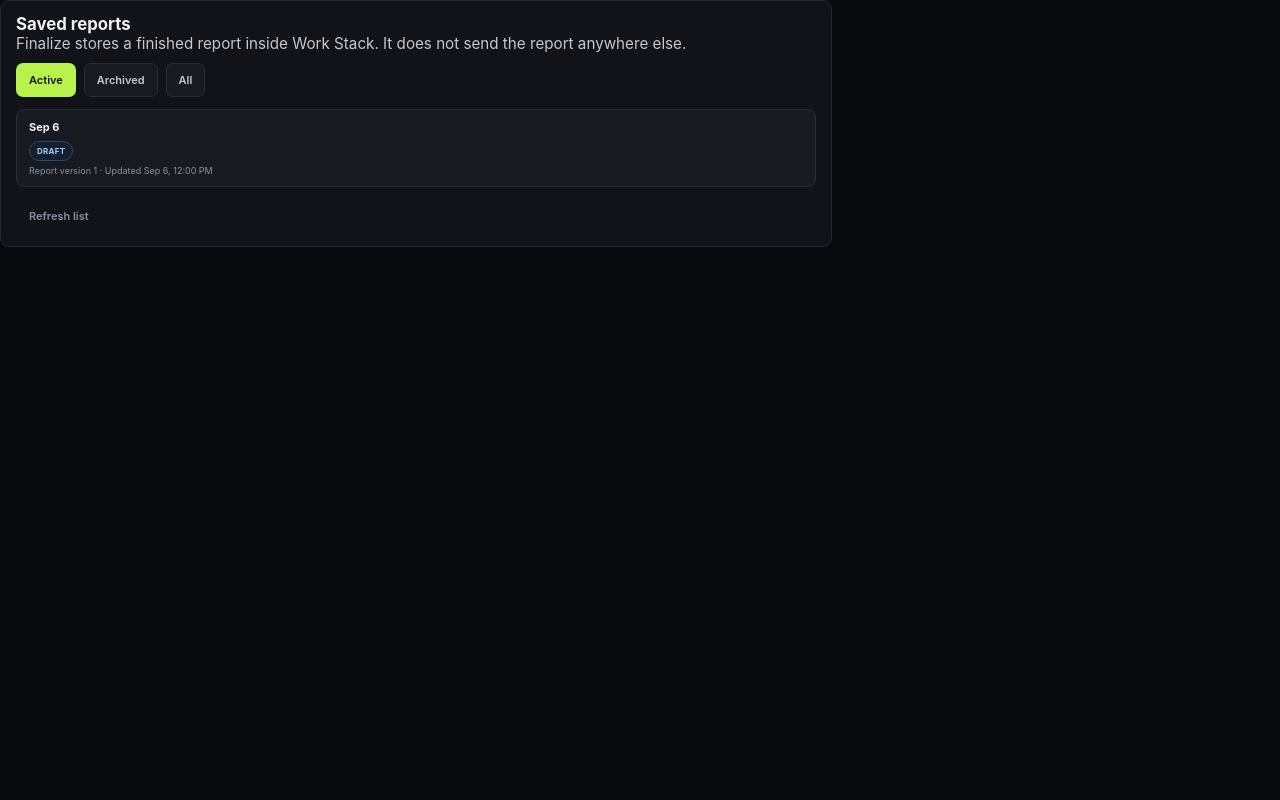
text typed during an in-flight save is kept and only the written snapshot is cleared
Click the text "Report version 1 · Updated Sep 6, 12:00 PM".
click(121, 170)  # box top-left (29, 165), bottom-right (213, 176)
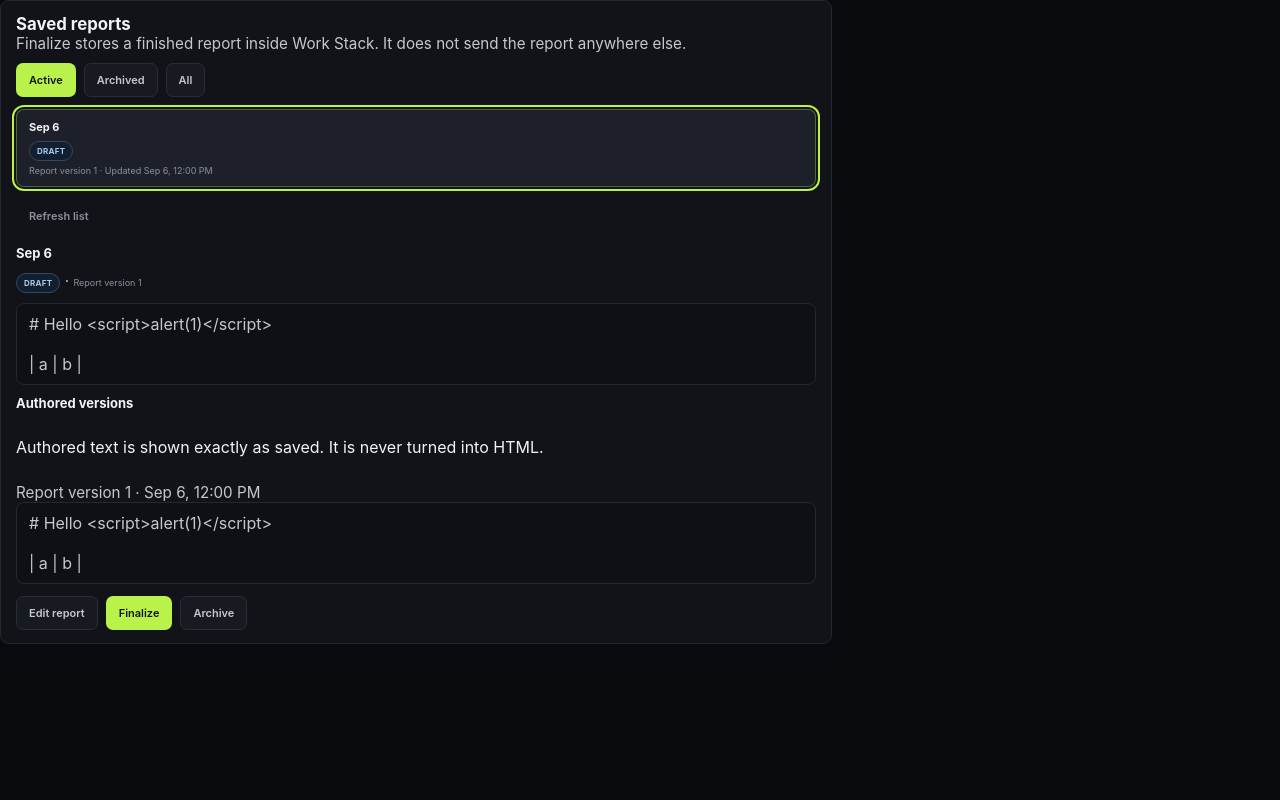
Click the button "Edit report".
click(57, 613)  # box top-left (16, 596), bottom-right (98, 630)
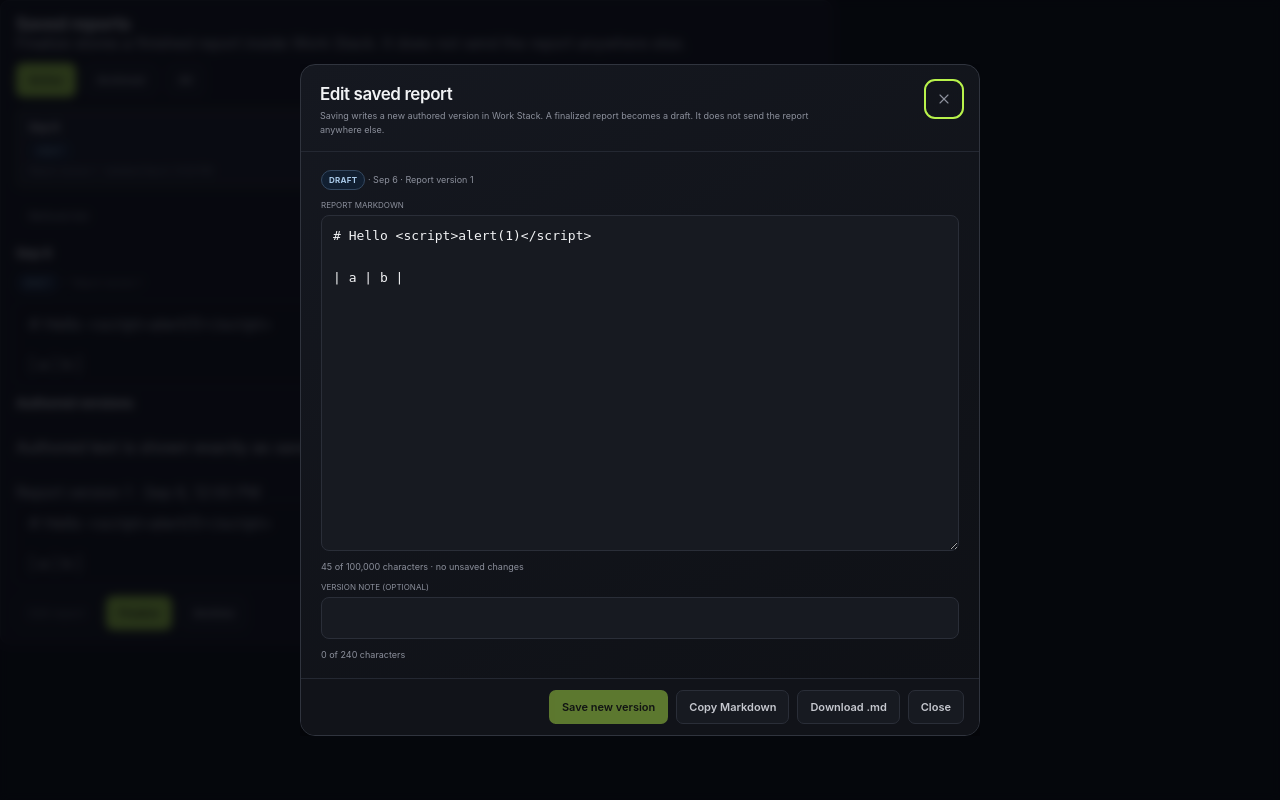
Replace the text in the text box labelled "Report markdown" with "first" at [640, 383], box top-left (321, 215), bottom-right (959, 551)
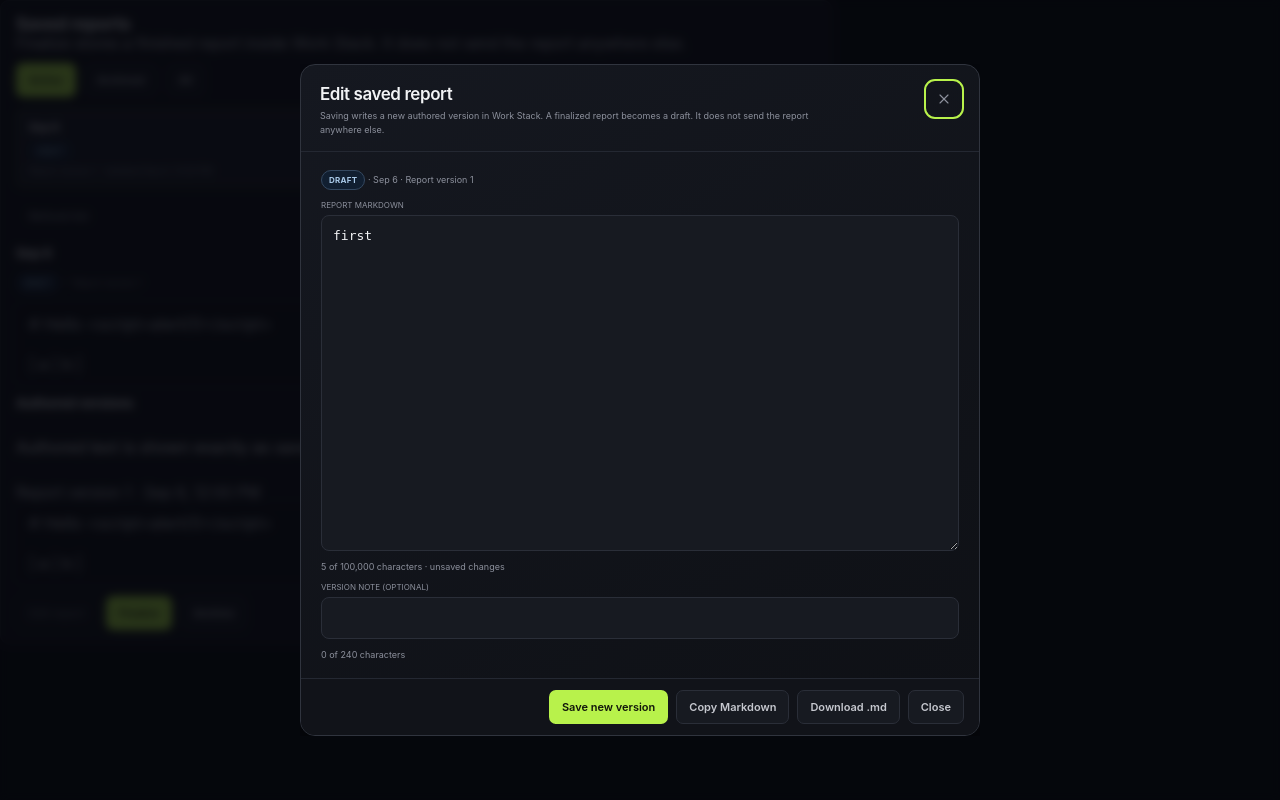
Click the button "Save new version".
click(609, 707)  # box top-left (549, 690), bottom-right (668, 724)
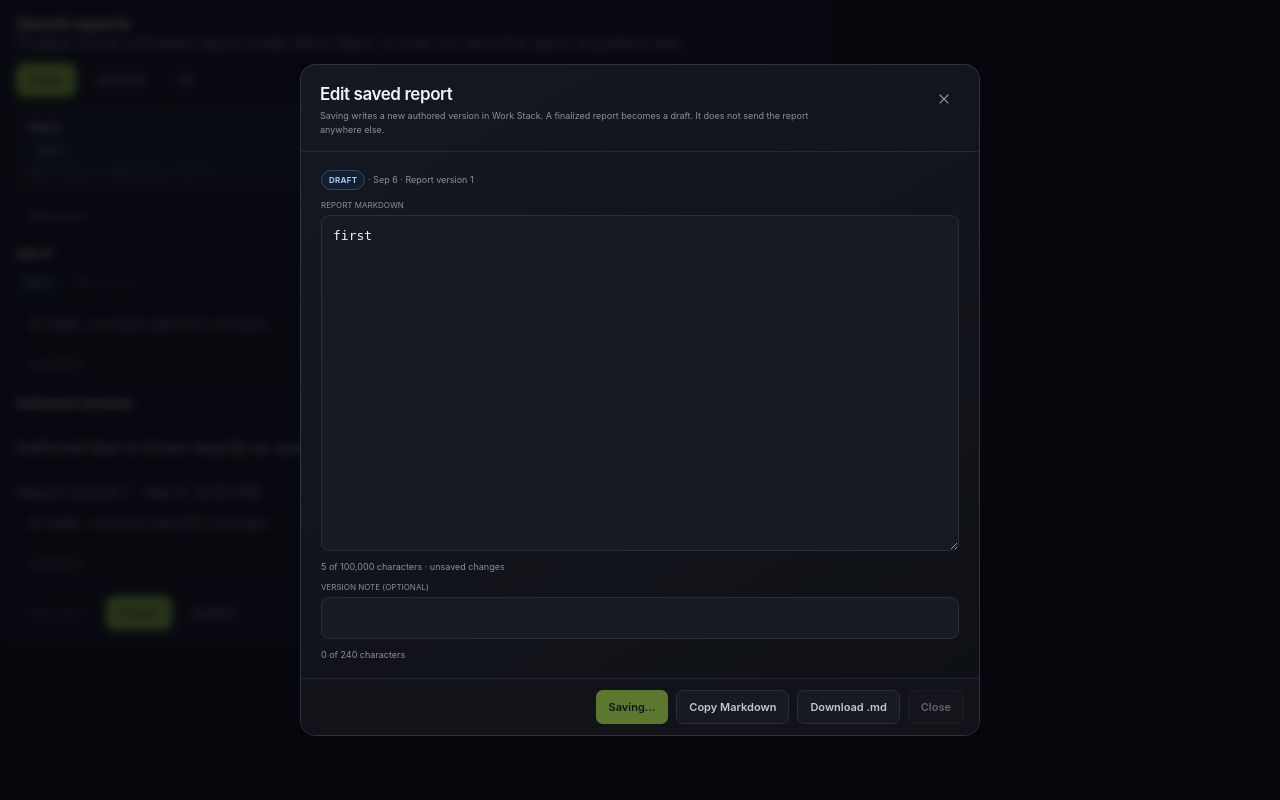
Check: the button "Saving…" is disabled, box top-left (596, 690), bottom-right (668, 724)
Replace the text in the text box labelled "Report markdown" with "first extra" at [640, 383], box top-left (321, 215), bottom-right (959, 551)
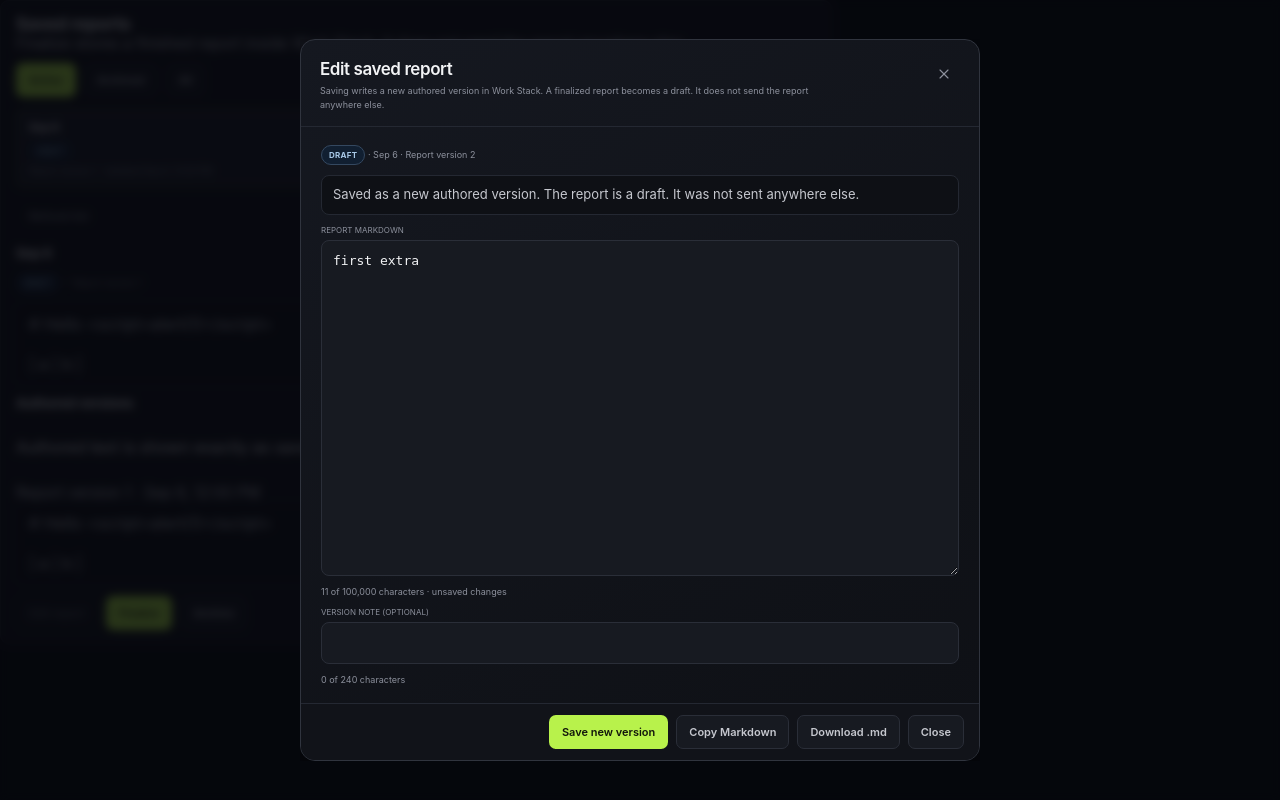
Check: the text "11 of 100,000 characters · unsaved changes" is shown, box top-left (321, 586), bottom-right (507, 597)
Check: the text "Saved as a new authored version" is shown, box top-left (333, 186), bottom-right (859, 202)
